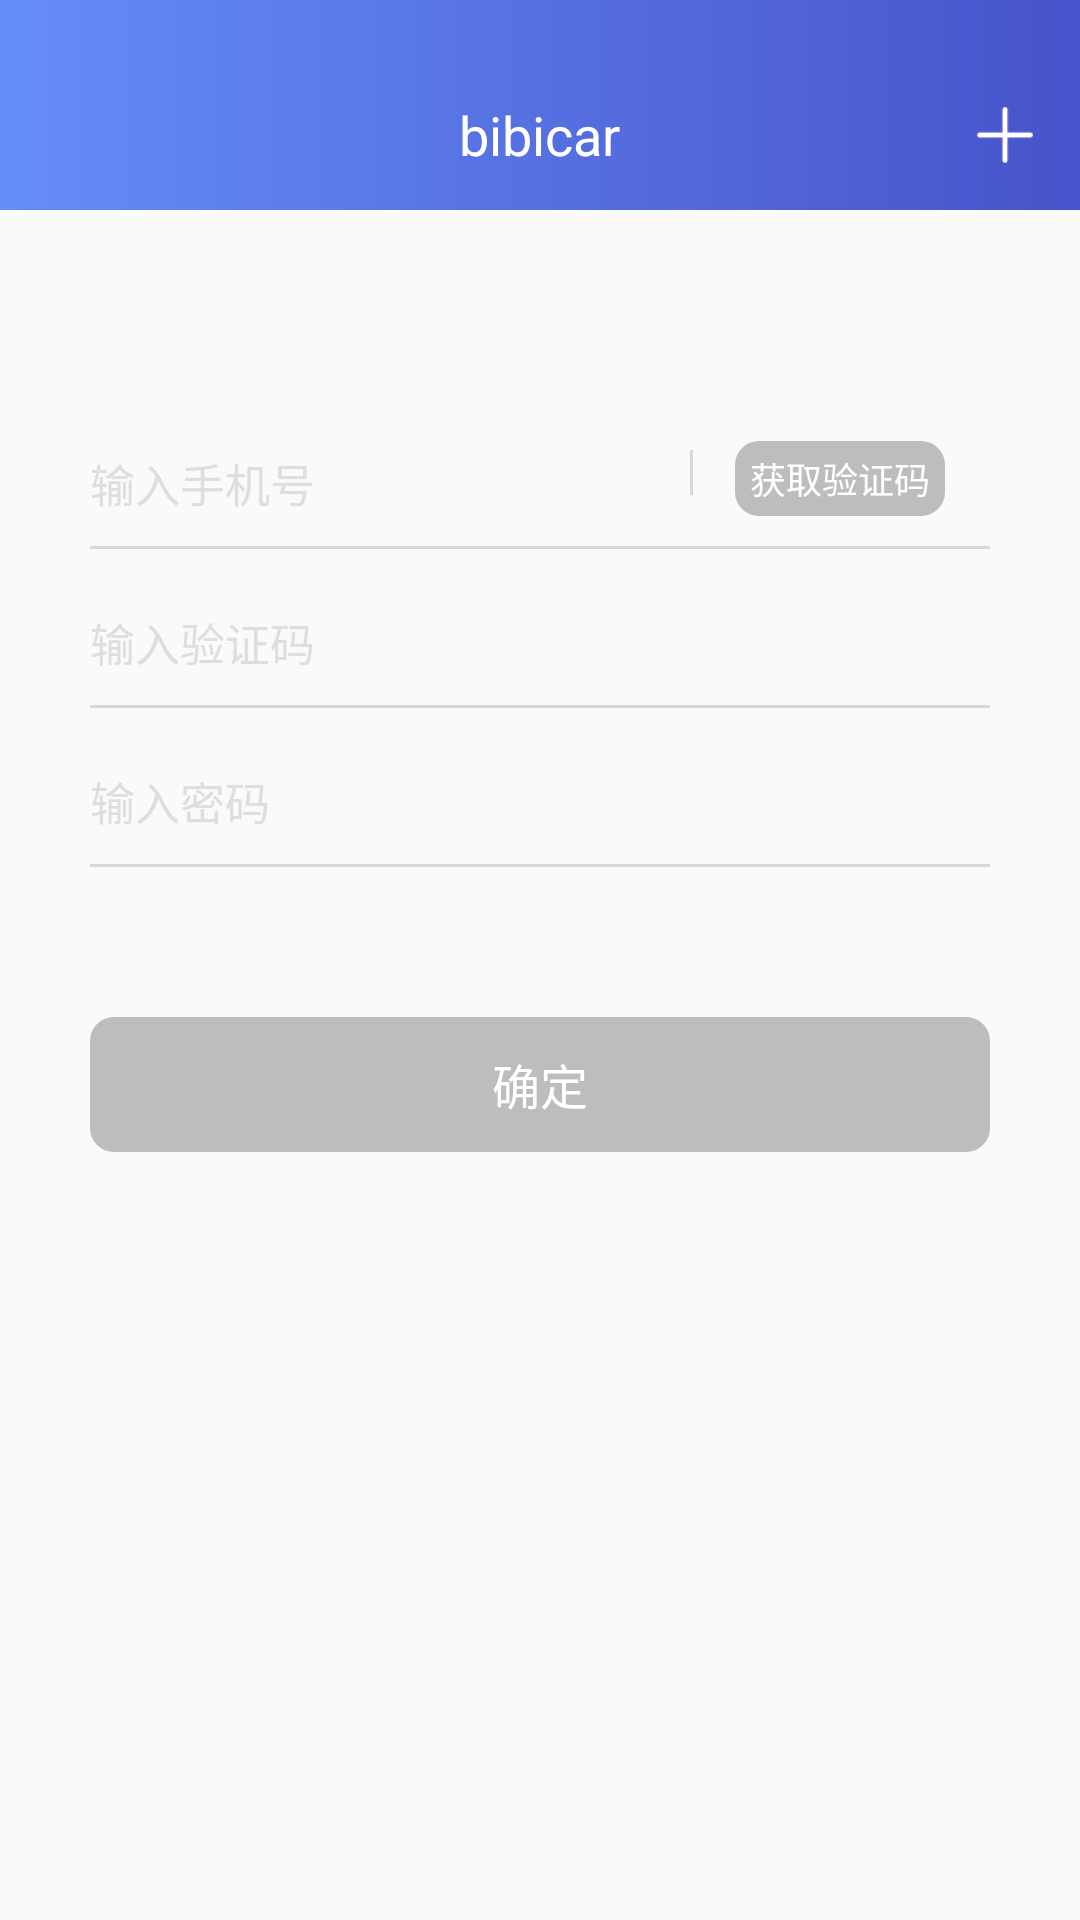

Icons on this 1080 × 1920 Android screen, each with the point to tap as (x=x, y=y):
title bar add: (x=1005, y=135)
